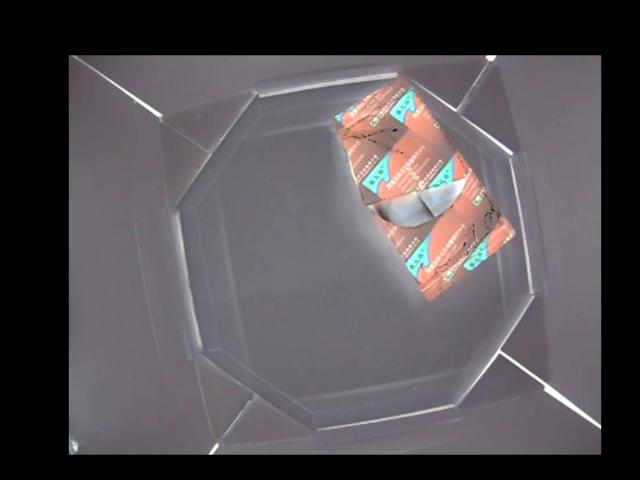Medicine: (334, 80, 517, 304)
